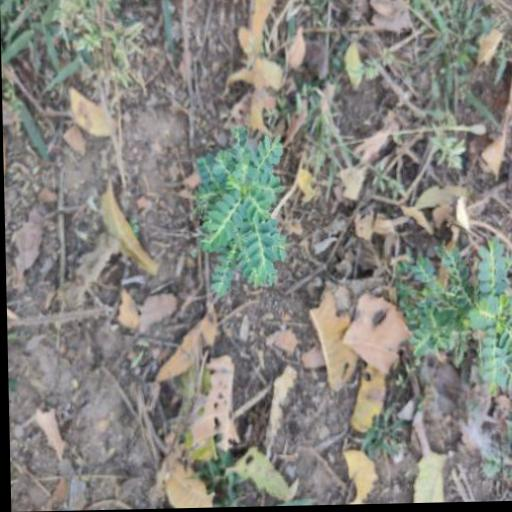weed: (389, 209, 512, 416), (181, 133, 294, 300)
